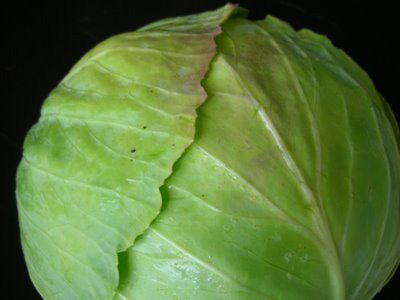cabbage: (15, 5, 399, 299)
